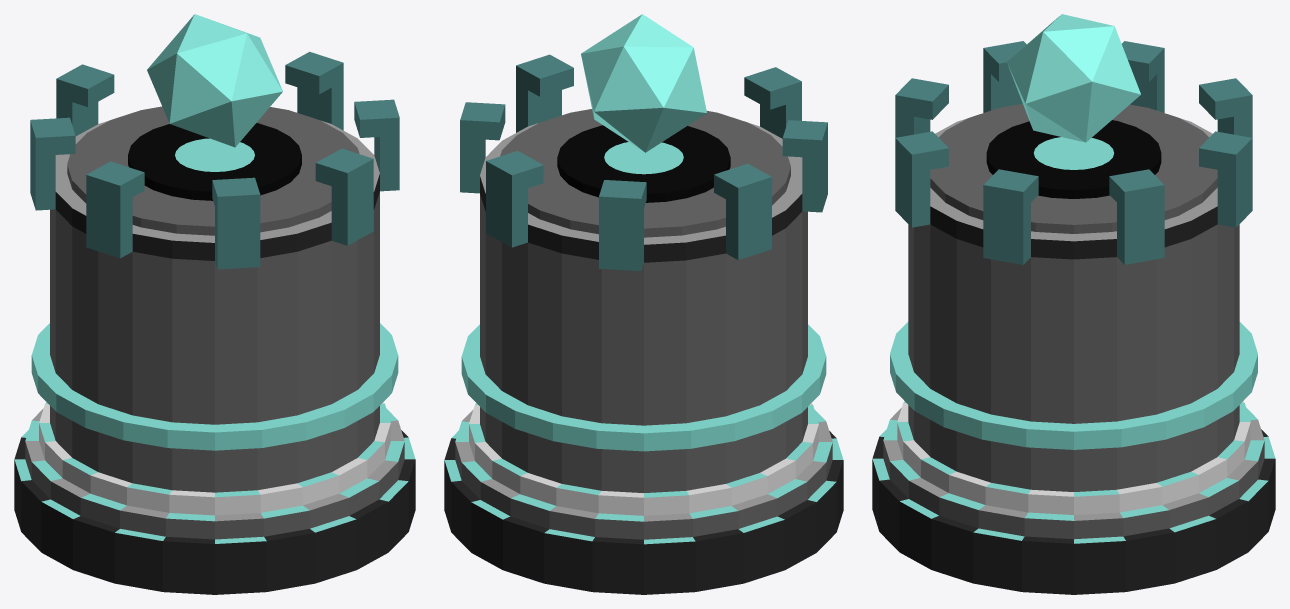
The model's file is Tower Ice fb.fbx.
The picture shows the model from 3 angles, left to right: view 1: azimuth 30°, elevation 25°; view 2: azimuth 150°, elevation 25°; view 3: azimuth 270°, elevation 25°; orthographic projection.
Parts seen in each view (by area): view 1: Cylinder, Icosphere; view 2: Cylinder, Icosphere; view 3: Cylinder, Icosphere.
Part boxes in pixels (x1,y1,x2,y2): Cylinder: (14, 51, 415, 594); Icosphere: (147, 14, 282, 147); Cylinder: (444, 54, 843, 594); Icosphere: (581, 14, 706, 152); Cylinder: (872, 41, 1275, 594); Icosphere: (1007, 14, 1140, 142).
Size of the model in its own units: 200 by 266 by 200.
